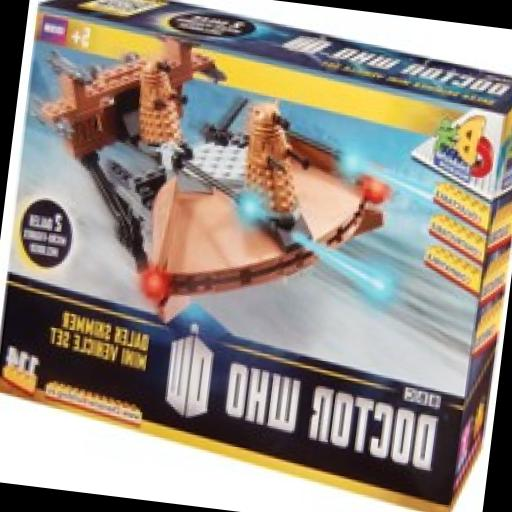dalek: (234, 96, 308, 223), (129, 55, 195, 157)
